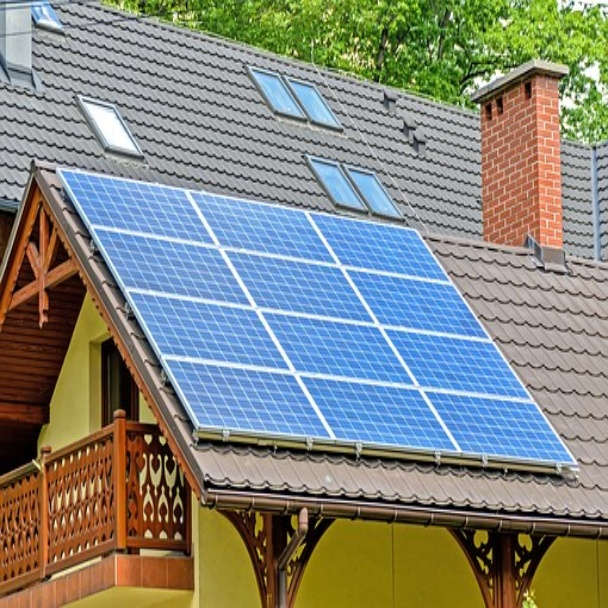solarpanels: (57, 167, 579, 467)
